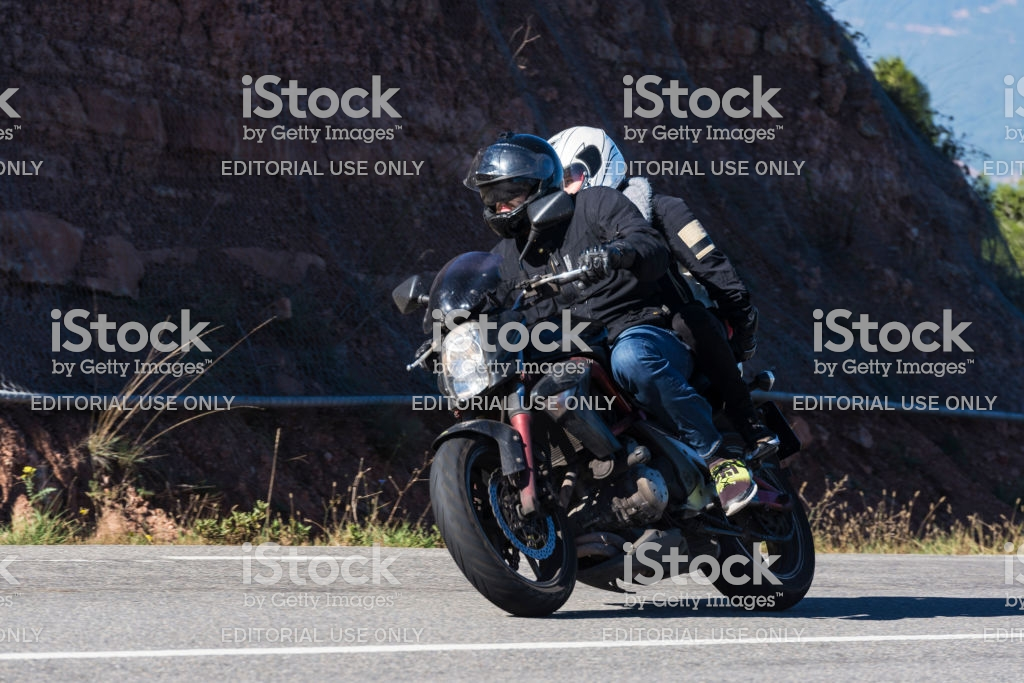helmet: (536, 113, 633, 202), (472, 144, 558, 234)
